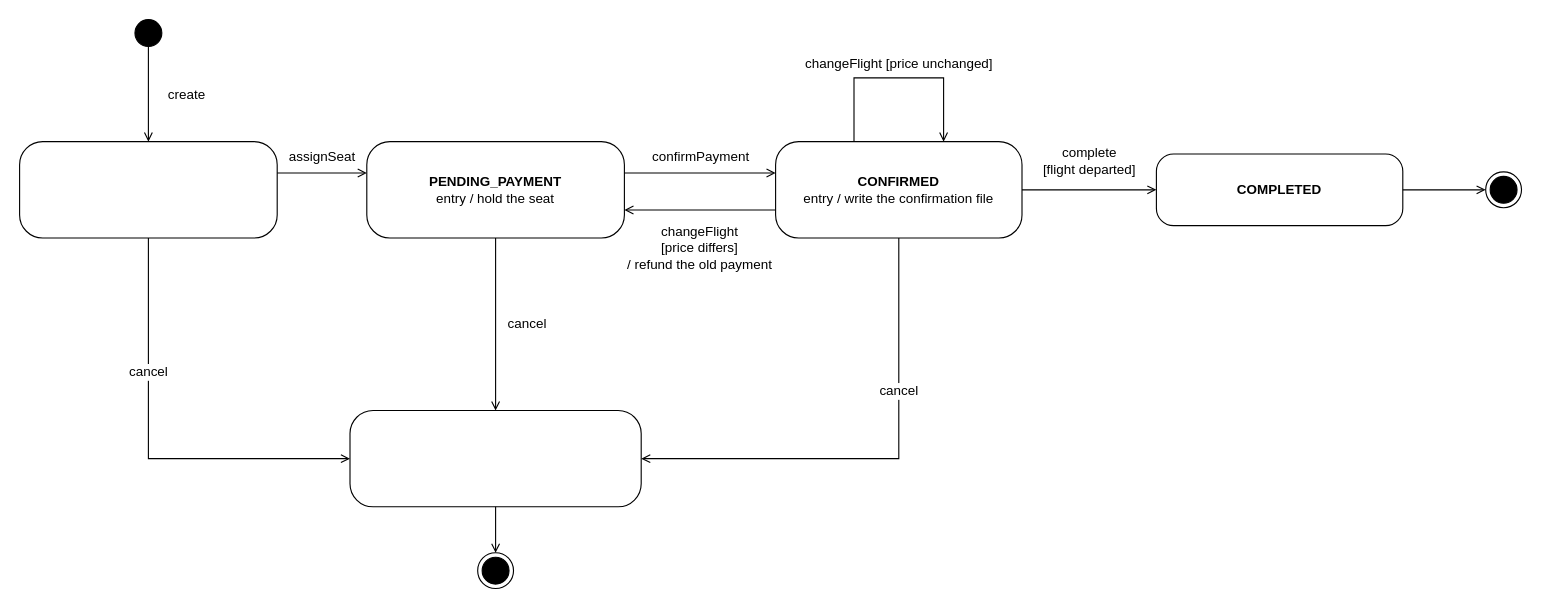
This 1541x608 diagram has some shape labels left out. The centre of each missing label's shape, as x and y in pixels:
CANCELLED entry / free the seat and refund approved payments: the point at 495,458
CREATED entry / generate the confirmation number: the point at 147,189
